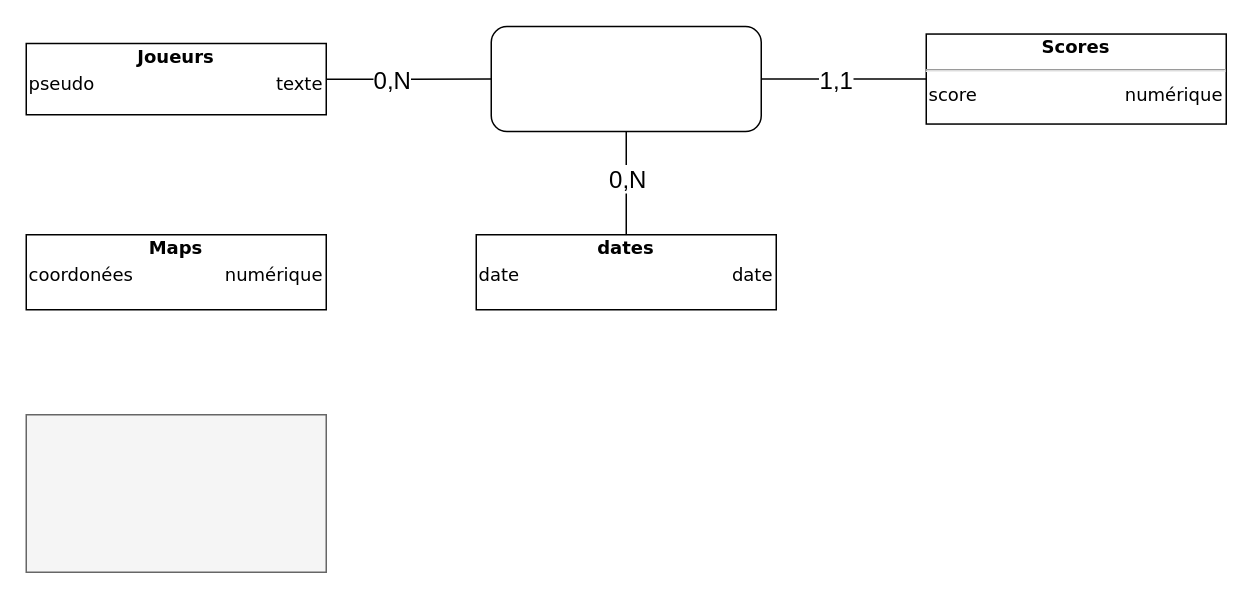
Some shapes in this 1253 by 599 pixel diagram are drawn without their labels. Each missing label, with the centre of its shape:
Appartenir: the point at 625,78
Cartouche Autheur Timothée Rapin projet Bataille navale date 26.03.2020: the point at 175,492
